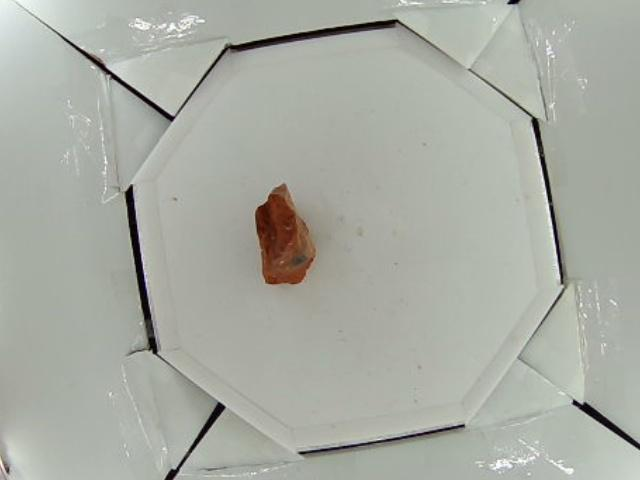Brisk: (255, 184, 316, 285)
